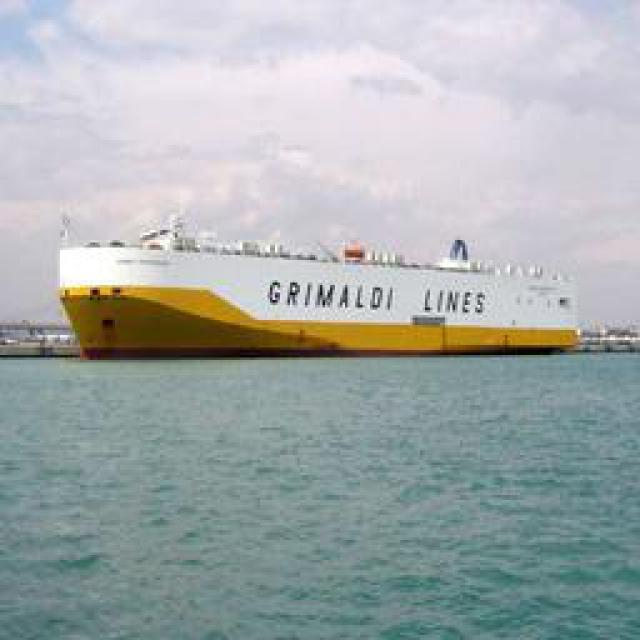Ship: (60, 220, 590, 360)
